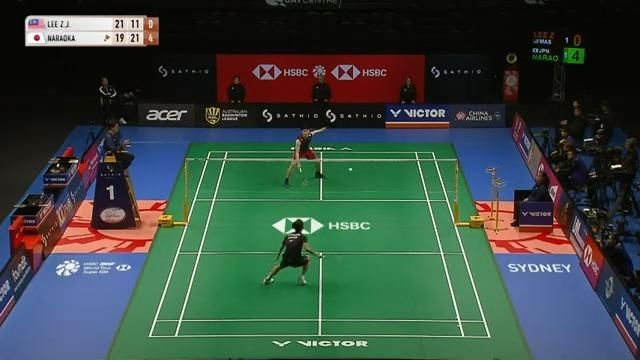Shuttlecock: (346, 164, 356, 174)
